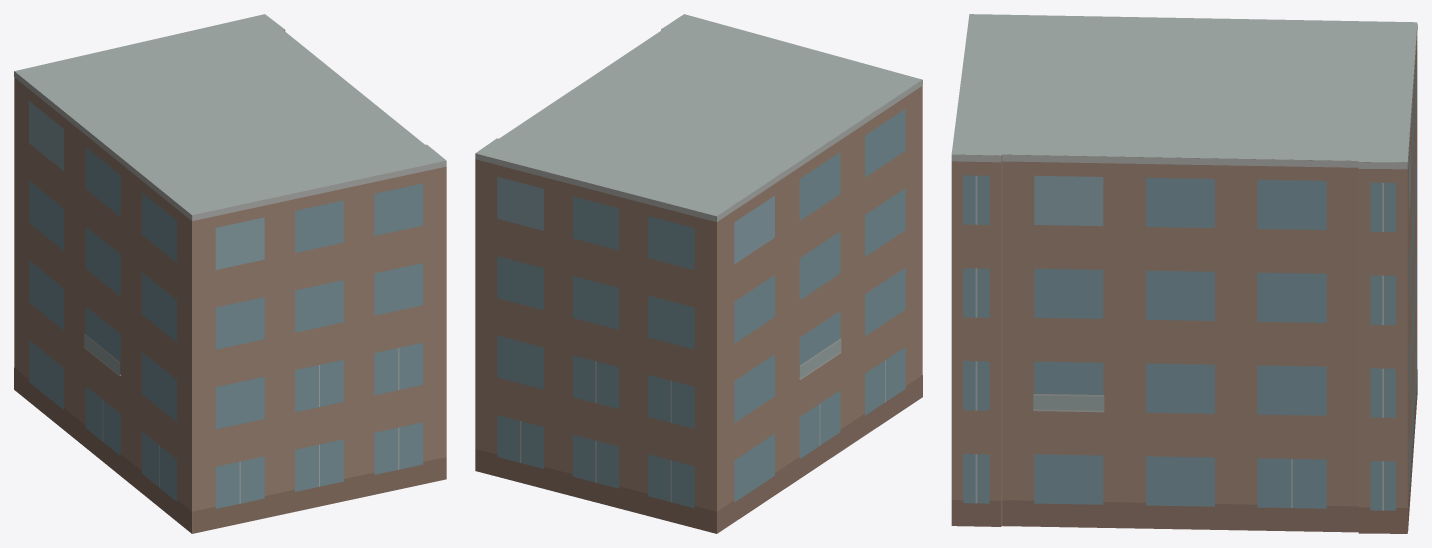
File: survey-upis-32662386.glb
The picture shows the model from 3 angles, left to right: view 1: azimuth 30°, elevation 25°; view 2: azimuth 150°, elevation 25°; view 3: azimuth 270°, elevation 25°; orthographic projection. The views are drawn at different scales.
Visible parts, largest first — view 1: survey-upis-32662386.tmp; view 2: survey-upis-32662386.tmp; view 3: survey-upis-32662386.tmp.
Part boxes in pixels (bbox=[...]): survey-upis-32662386.tmp: bbox=[14, 14, 446, 533]; survey-upis-32662386.tmp: bbox=[475, 14, 922, 533]; survey-upis-32662386.tmp: bbox=[951, 14, 1417, 533].
Bounding box in the file's own units: 11.37 × 13.25 × 15.07.
